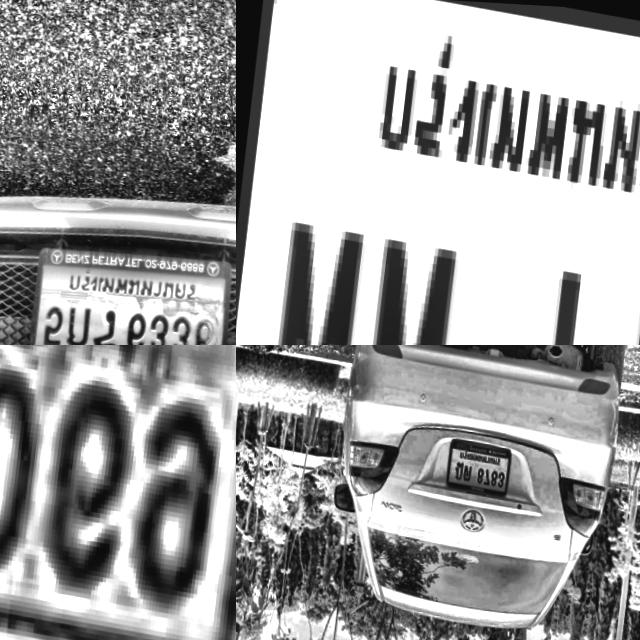license-plate: (236, 0, 640, 345), (0, 345, 236, 640), (21, 224, 232, 345), (444, 434, 512, 494)
